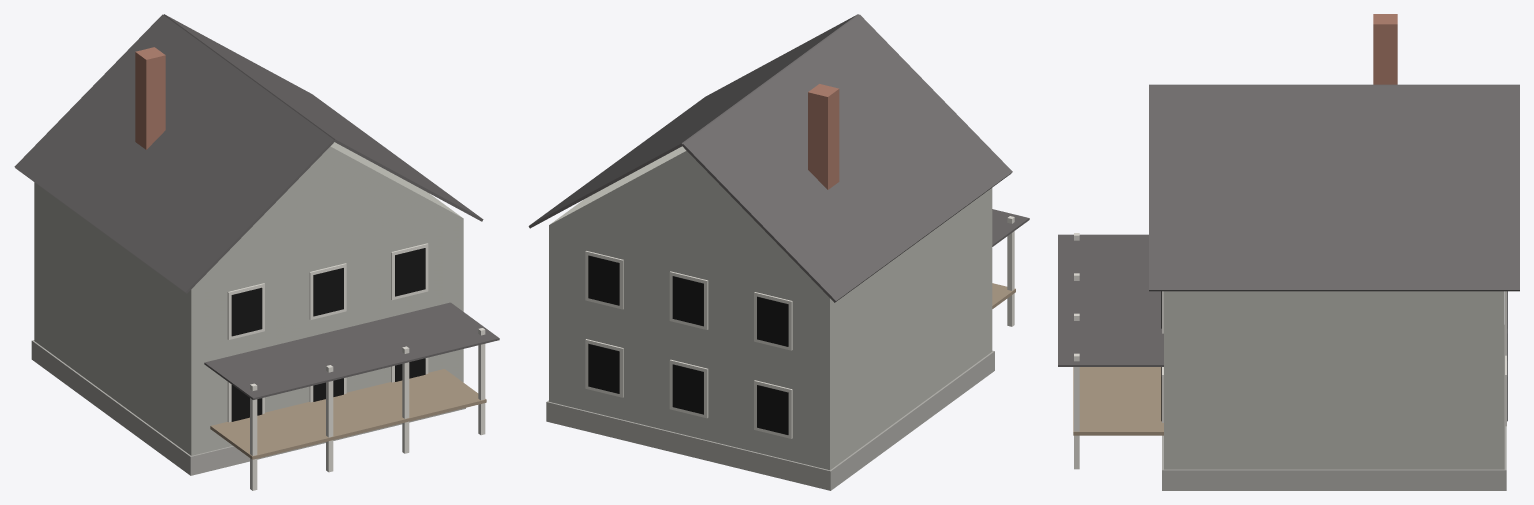
Rendered from house_a_far.glb.
3 renders of one model, left to right at view 1: azimuth 30°, elevation 25°; view 2: azimuth 150°, elevation 25°; view 3: azimuth 270°, elevation 25°, orthographic. The views are drawn at different scales.
Parts seen in each view (by area): view 1: HouseFar; view 2: HouseFar; view 3: HouseFar.
Part boxes in pixels (x1,y1,x2,y2): HouseFar: (14,14,499,490); HouseFar: (528,14,1029,490); HouseFar: (1058,14,1519,490).
Size of the model in its own units: 9.85 by 10.48 by 12.2.
